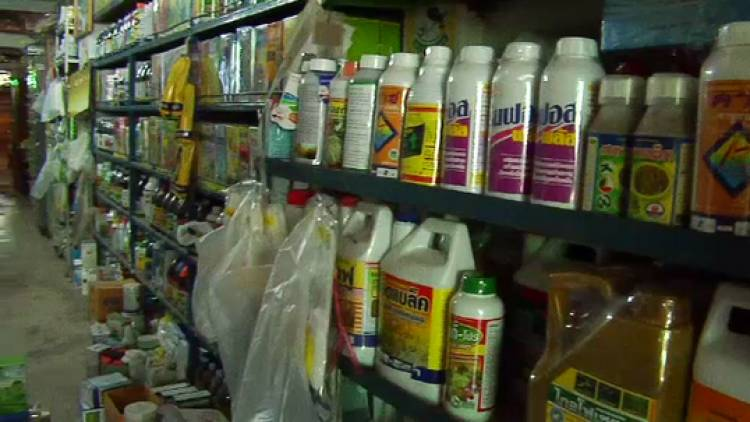Insecticide: (519, 267, 693, 422), (372, 211, 480, 405), (520, 29, 599, 218), (692, 15, 750, 243), (626, 68, 698, 227), (331, 193, 394, 366), (437, 268, 507, 422), (484, 37, 545, 206), (398, 41, 453, 187), (361, 50, 421, 181), (295, 58, 339, 164)
